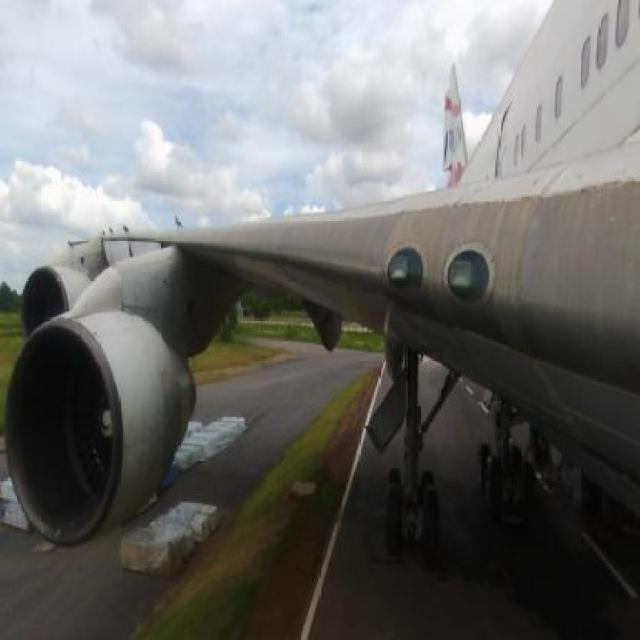Scartch: (290, 270, 378, 315)
